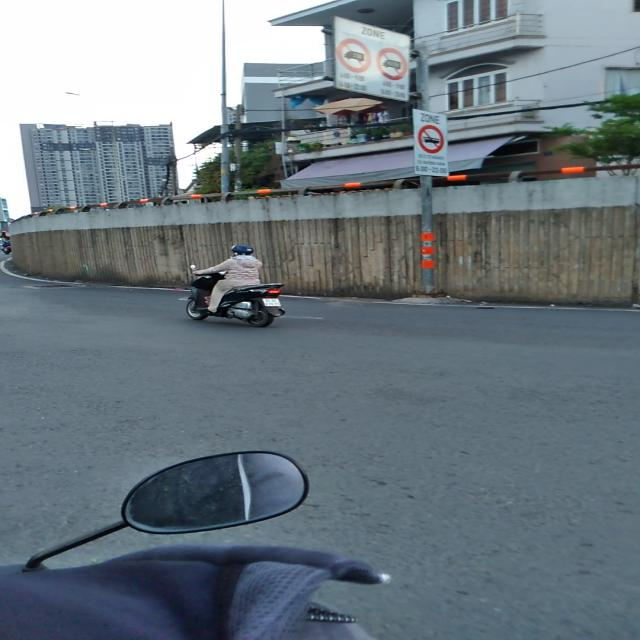Cam con lai: (336, 38, 371, 73), (374, 48, 408, 80), (417, 124, 444, 154)
